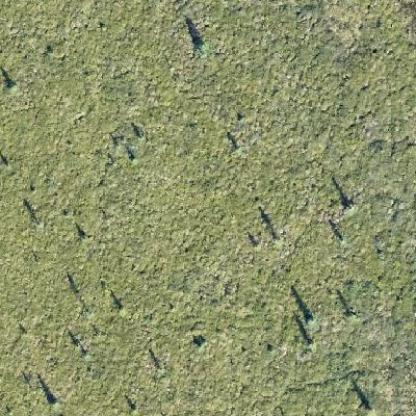tree-top: (339, 198, 357, 219), (46, 397, 64, 413), (195, 37, 212, 53), (2, 79, 18, 96), (302, 312, 317, 328), (303, 335, 318, 351)
